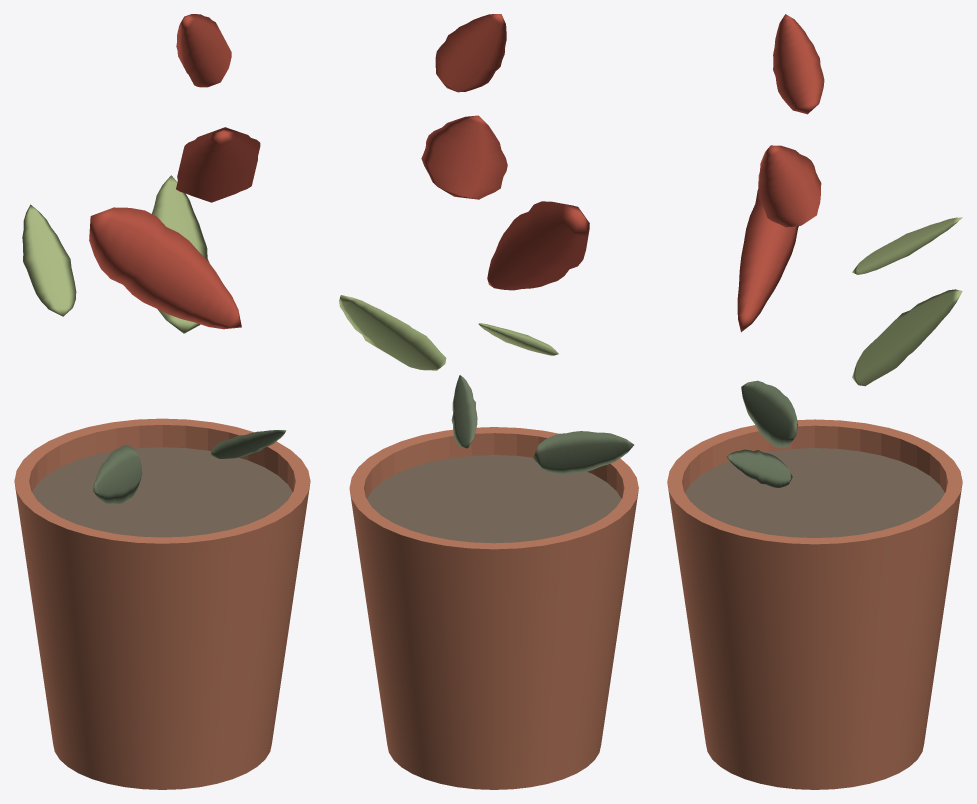
File: NPR_25_1042__MOD__GardenFurniture__PlantersAndPots__PottedPlantFlowerPot__Var-02__.glb
3 views of the same model, side by side, from view 1: azimuth 30°, elevation 25°; view 2: azimuth 150°, elevation 25°; view 3: azimuth 270°, elevation 25° (orthographic). The views are drawn at different scales.
Parts seen in each view (by area): view 1: NPR_25_1042__MOD__GardenFurniture__PlantersAndPots__PottedPl; view 2: NPR_25_1042__MOD__GardenFurniture__PlantersAndPots__PottedPl; view 3: NPR_25_1042__MOD__GardenFurniture__PlantersAndPots__PottedPl.
Part boxes in pixels (x1,y1,x2,y2): NPR_25_1042__MOD__GardenFurniture__PlantersAndPots__PottedPl: [14, 14, 310, 789]; NPR_25_1042__MOD__GardenFurniture__PlantersAndPots__PottedPl: [339, 14, 638, 789]; NPR_25_1042__MOD__GardenFurniture__PlantersAndPots__PottedPl: [667, 14, 962, 789].
Bounding box in the file's own units: 0.36 × 0.9858 × 0.36.
